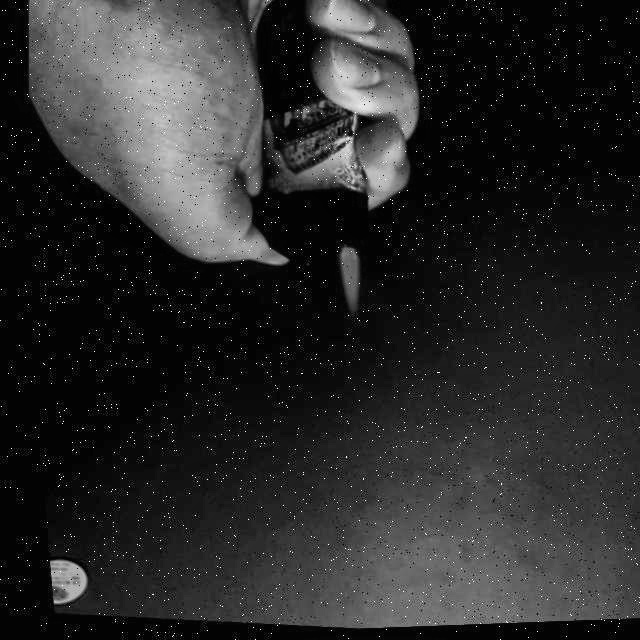Fire: (324, 246, 362, 321)
